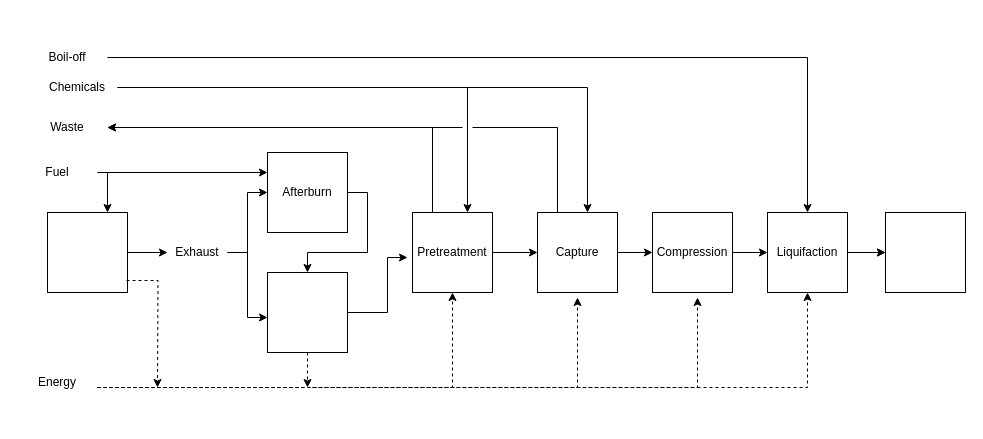
Image size: 983x439. Some labels were removed from this diagram. The shapes that lost their labels are listed below. From the top down, each one's centre as x and y in pixels, then its label:
pixel 87 252: Engine
pixel 925 252: Storage
pixel 307 312: WHRU
